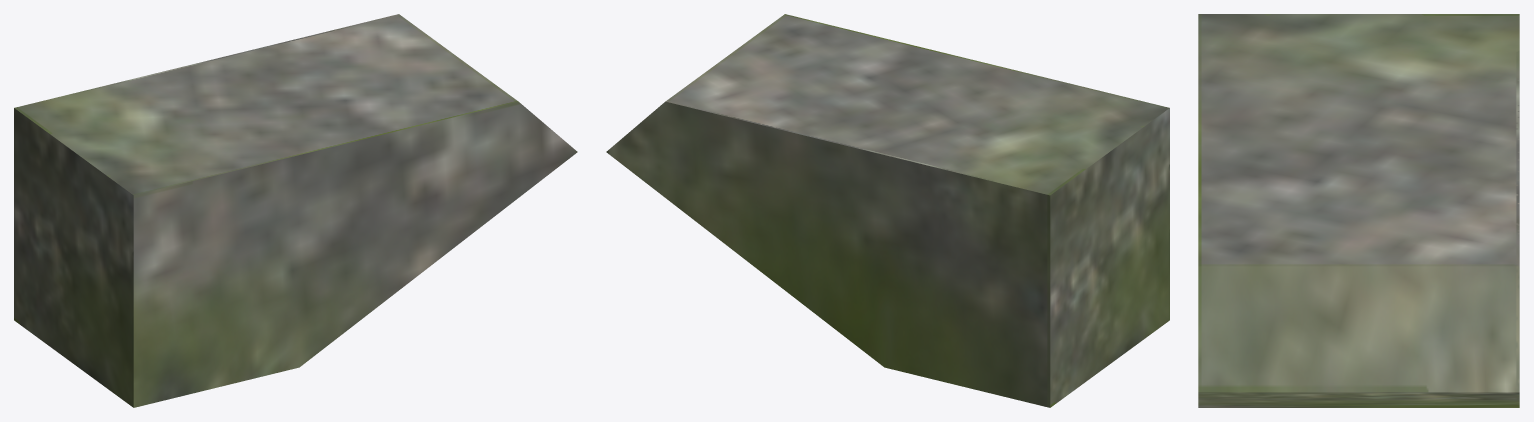
Rendered from obstaculo bloque .fbx.
The picture shows the model from 3 angles, left to right: view 1: azimuth 30°, elevation 25°; view 2: azimuth 150°, elevation 25°; view 3: azimuth 270°, elevation 25°; orthographic projection. The views are drawn at different scales.
Parts seen in each view (by area): view 1: obstaculoBloque; view 2: obstaculoBloque; view 3: obstaculoBloque.
Part boxes in pixels (bbox=[...]): obstaculoBloque: bbox=[14, 14, 577, 407]; obstaculoBloque: bbox=[606, 14, 1169, 407]; obstaculoBloque: bbox=[1198, 14, 1519, 407].
Size of the model in its own units: 26.49 by 12.11 by 12.36.
Materials: 1 (1 with a texture image).
